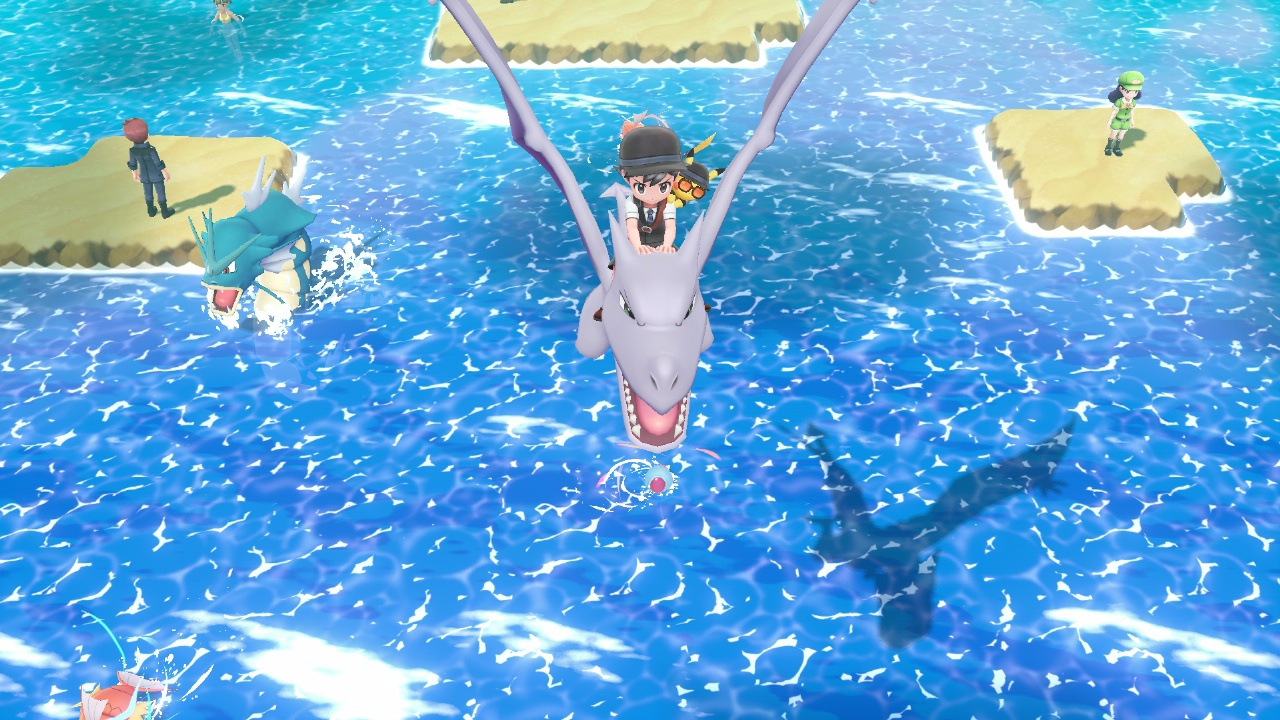Red: (79, 667, 166, 720)
